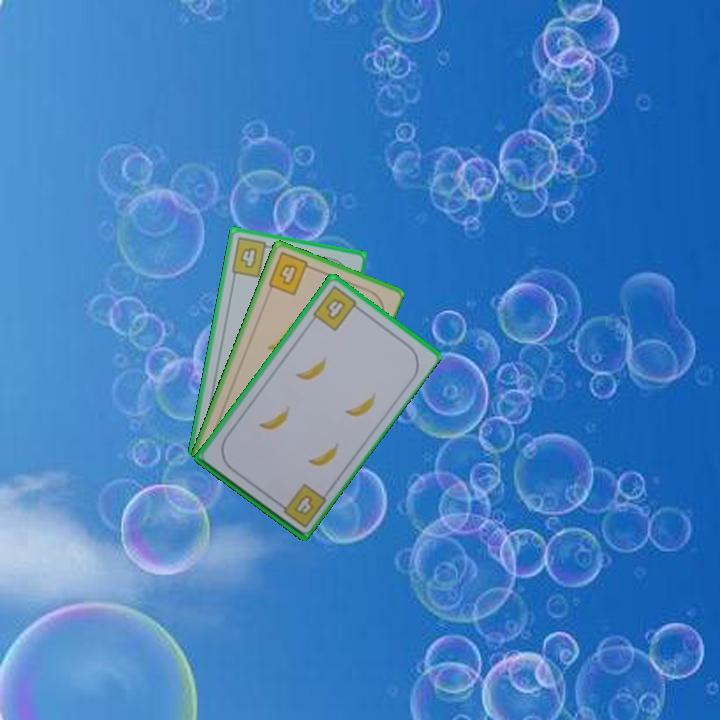4b: (309, 282, 364, 334), (273, 480, 329, 530), (264, 248, 317, 298), (227, 234, 276, 280)
